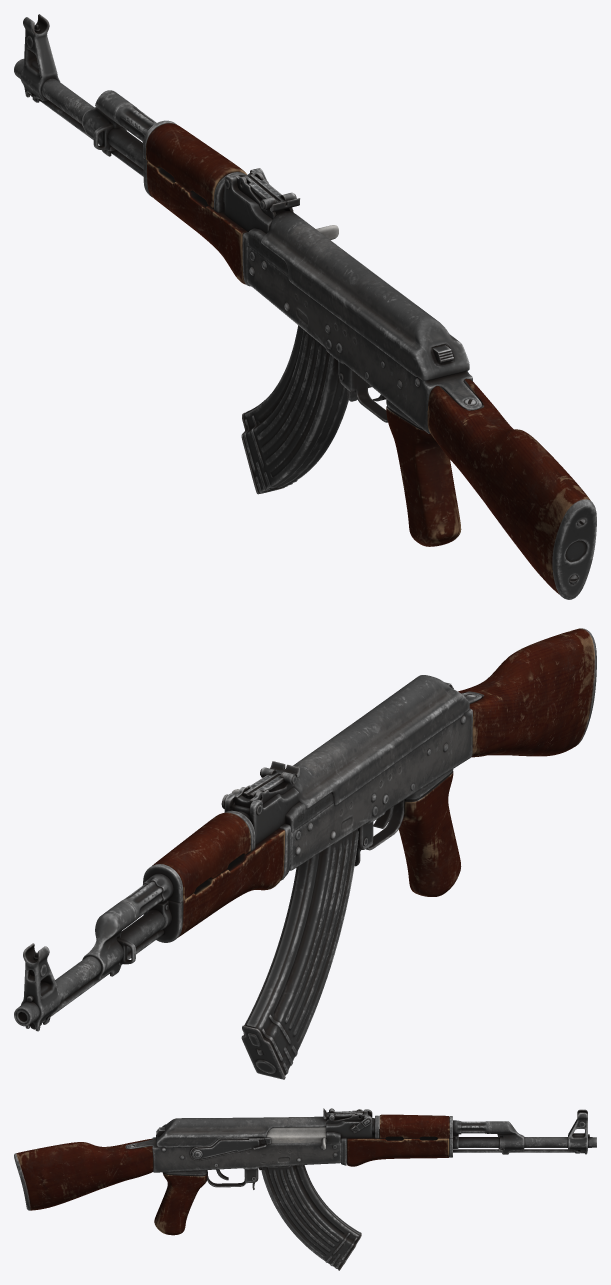
3 views of the same model, one above another, from view 1: azimuth 30°, elevation 25°; view 2: azimuth 150°, elevation 25°; view 3: azimuth 270°, elevation 25° (orthographic). The views are drawn at different scales.
Visible parts, largest first — view 1: AK; view 2: AK; view 3: AK.
Part boxes in pixels (x1,y1,x2,y2): AK: [14, 14, 596, 599]; AK: [14, 628, 596, 1079]; AK: [14, 1108, 596, 1270].
Bounding box in the file's own units: 70.51 × 260 × 879.
